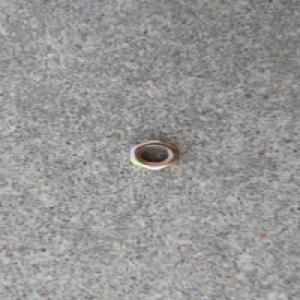Nut: (127, 139, 179, 171)
